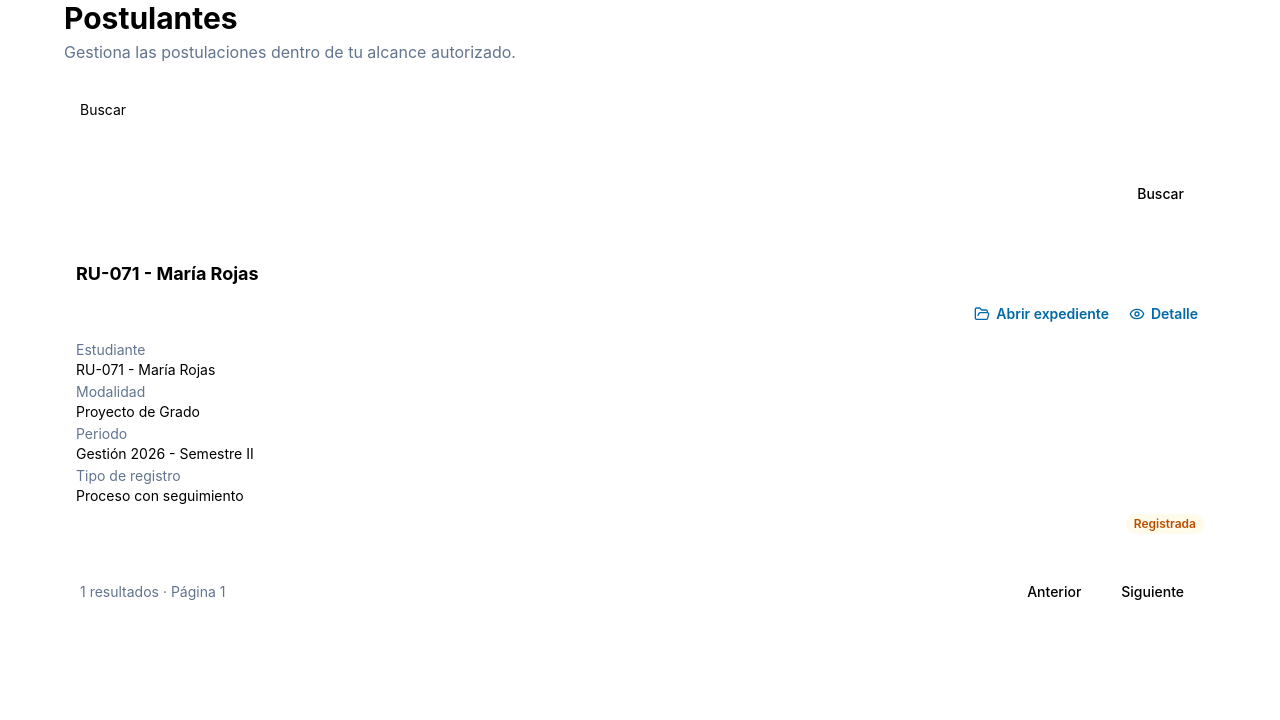
Test: PostulantesPage US-007 › mantiene el detalle disponible si faltan etapa actual y resultado opcional
Click the button "Detalle": click(1164, 314) top-left (1123, 296), bottom-right (1204, 332)
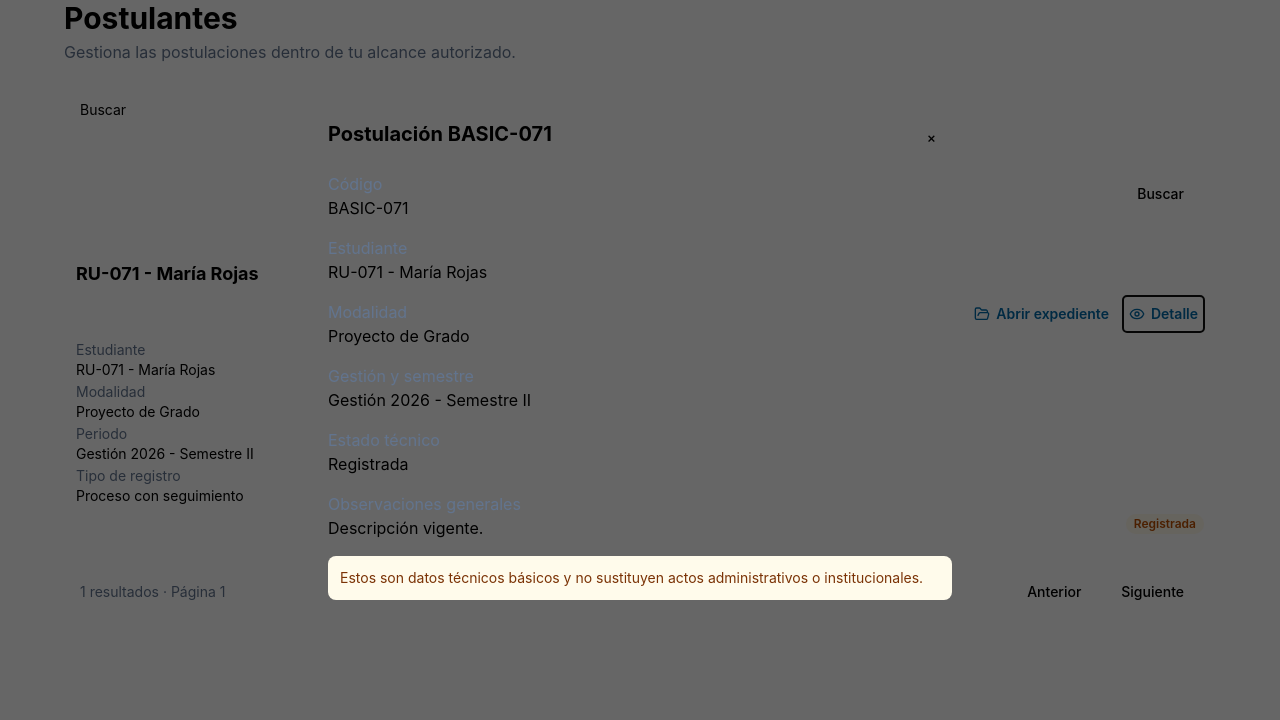
expect the text "Descripción vigente." is shown: met, box top-left (328, 518), bottom-right (483, 538)
expect the text "Registrada" is shown: met, box top-left (328, 454), bottom-right (408, 474)
